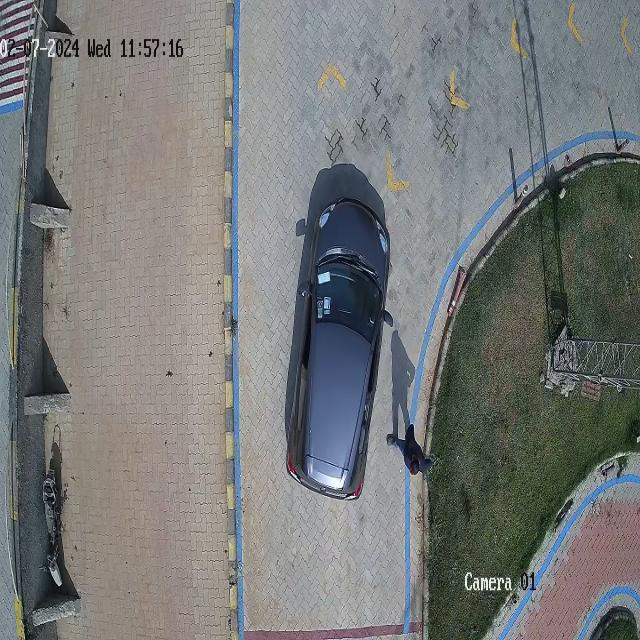car: (288, 200, 389, 498)
